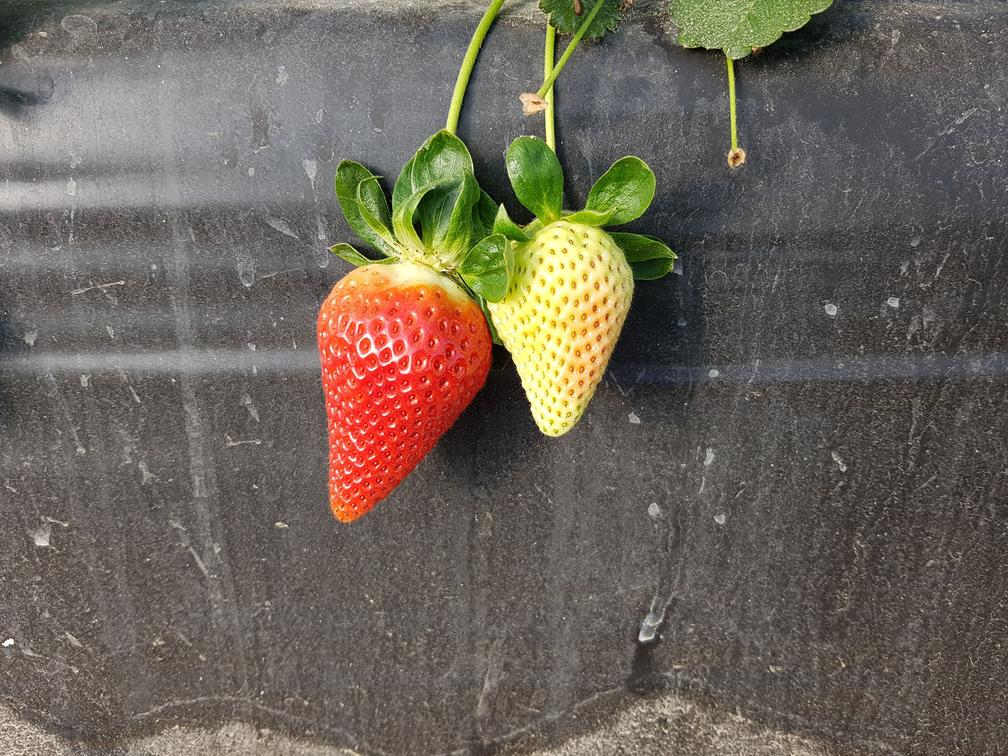Ripe: (300, 254, 496, 529)
Unripe: (502, 224, 642, 448)
